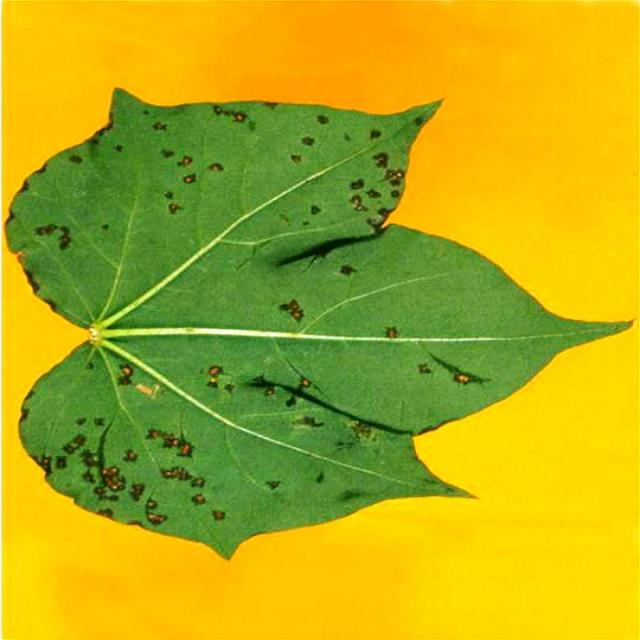Bacterial Blight: (56, 164, 301, 536)
